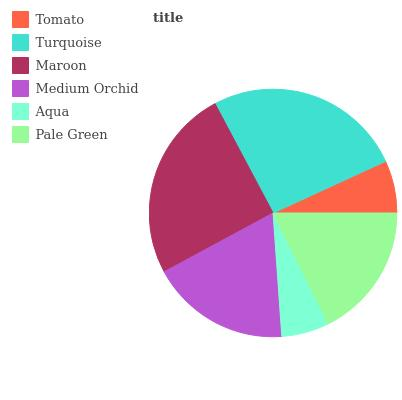legend: (0, 0, 143, 152)
sector: (217, 87, 387, 212), (148, 103, 274, 269), (163, 211, 282, 338), (273, 211, 397, 323), (273, 212, 327, 338), (274, 162, 398, 213)
